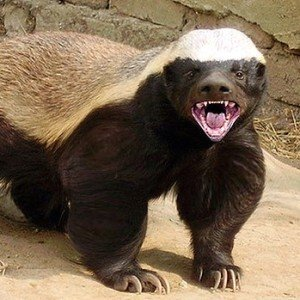badger: (4, 28, 271, 296)
